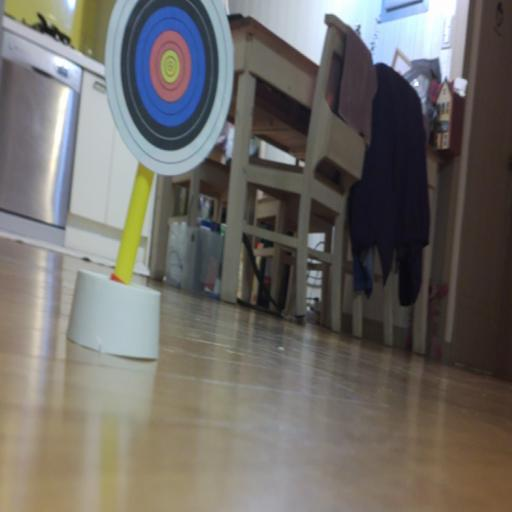target: (105, 0, 234, 175)
